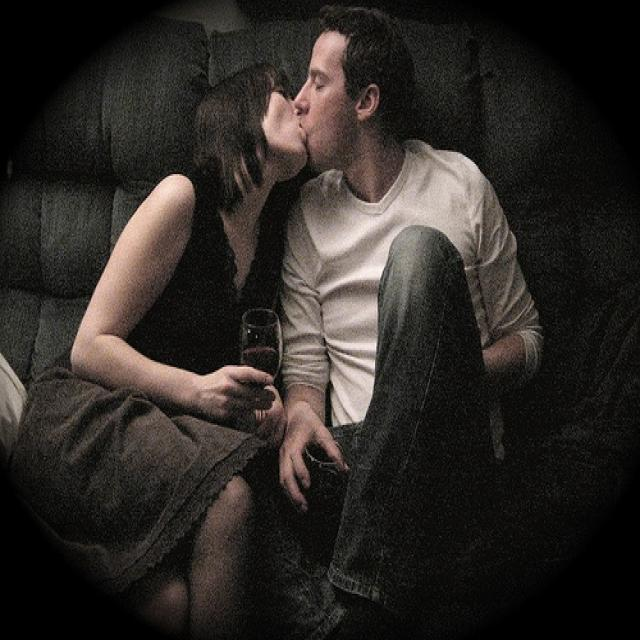sofa: (1, 5, 639, 626)
